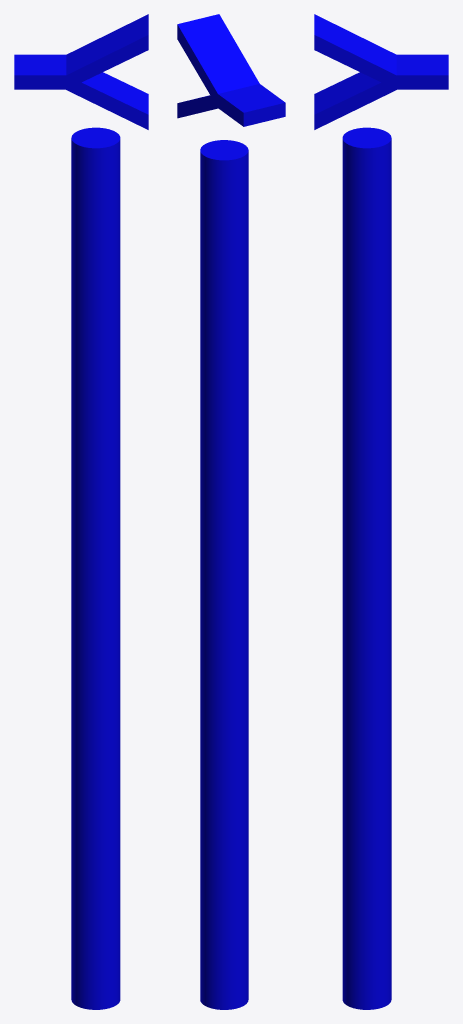
File: frame_0.obj
3 views of the same model, side by side, from view 1: azimuth 90°, elevation 25°; view 2: azimuth 210°, elevation 25°; view 3: azimuth 270°, elevation 25° (orthographic).
Bounding box in the file's own units: 0.01 × 0.2193 × 0.0274.
